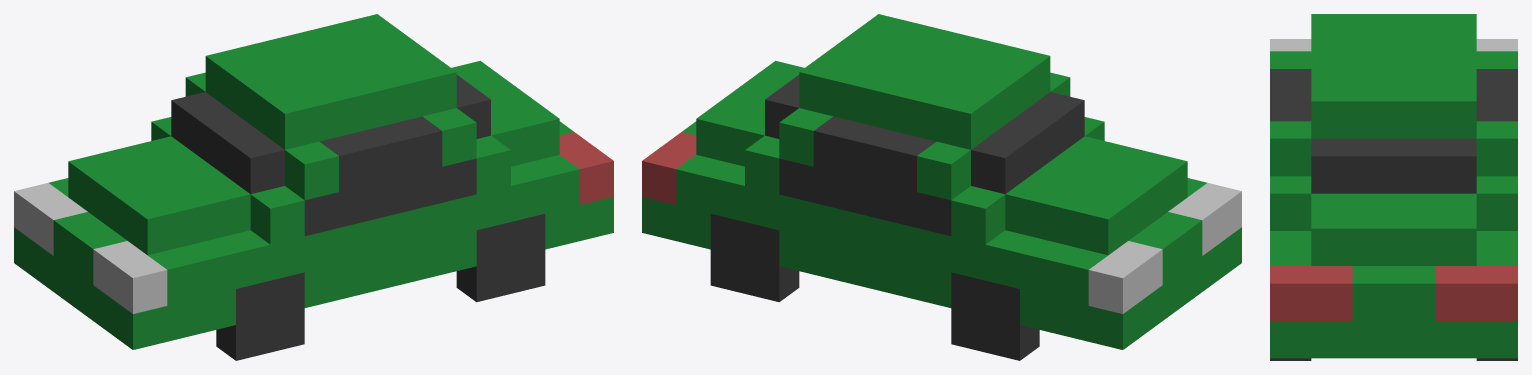
Rendered from car-v6-green.gltf.
The picture shows the model from 3 angles, left to right: view 1: azimuth 30°, elevation 25°; view 2: azimuth 150°, elevation 25°; view 3: azimuth 270°, elevation 25°; orthographic projection. The views are drawn at different scales.
Parts seen in each view (by area): view 1: model, wheels; view 2: model, wheels; view 3: model, wheels.
Part boxes in pixels (x1,y1,x2,y2): model: (14, 14, 613, 349); wheels: (216, 214, 545, 360); model: (642, 14, 1241, 349); wheels: (710, 214, 1039, 360); model: (1270, 14, 1517, 358); wheels: (1270, 358, 1517, 360).
Bounding box in the file's own units: 1.4 × 0.6 × 0.6.
2 materials, 2 textured.
